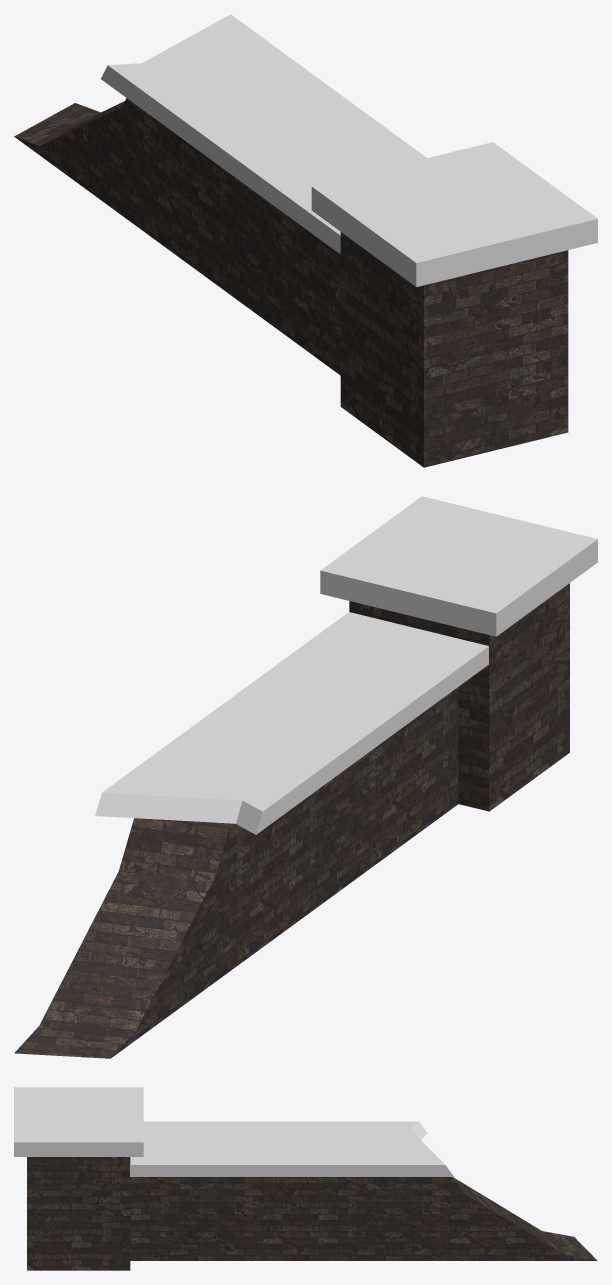
Rendered from Wall2.fbx.
3 renders of one model, top to bottom at view 1: azimuth 30°, elevation 25°; view 2: azimuth 150°, elevation 25°; view 3: azimuth 270°, elevation 25°, orthographic. The views are drawn at different scales.
Visible parts, largest first — view 1: Wall, Cap; view 2: Wall, Cap; view 3: Wall, Cap.
Boxes of the visible parts, x1=… form: Wall: x1=14, y1=98, x2=568, y2=467; Cap: x1=101, y1=14, x2=597, y2=286; Wall: x1=14, y1=583, x2=569, y2=1058; Cap: x1=95, y1=496, x2=597, y2=834; Wall: x1=27, y1=1157, x2=597, y2=1270; Cap: x1=14, y1=1087, x2=453, y2=1176.
Size of the model in its own units: 251 by 287 by 1131.
